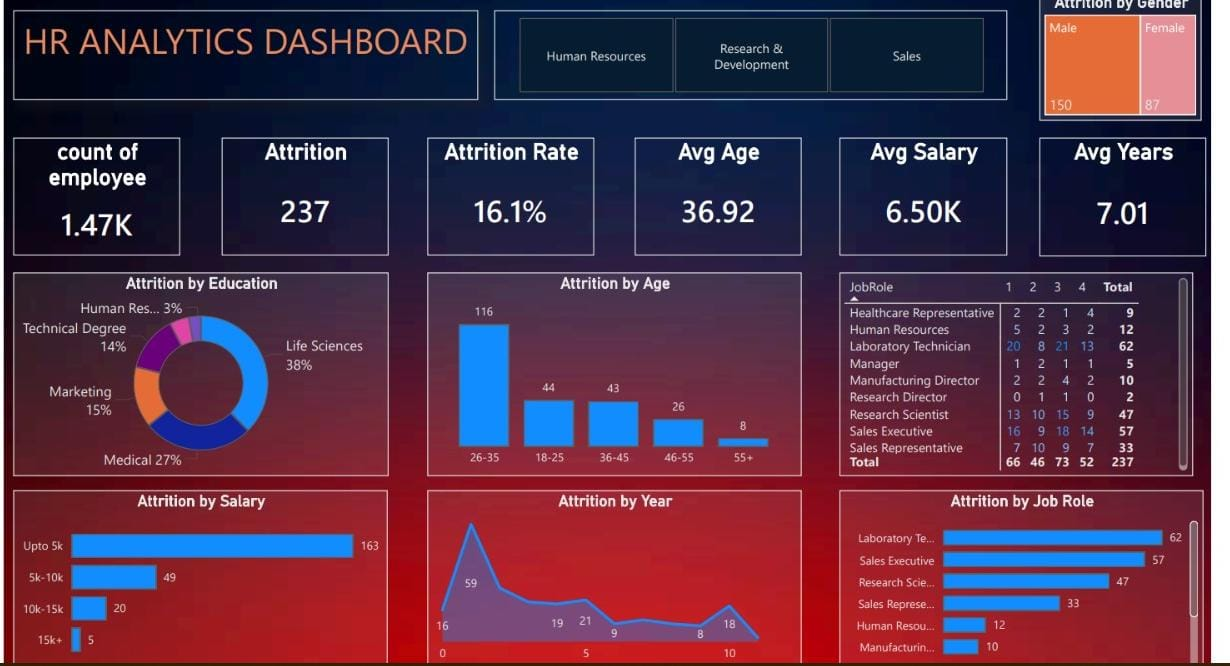

What the dashboard file says about the page in this screenshot:
{"tool":"powerbi","page":{"name":"Page 1","canvas":[1280,720],"ordinal":0},"visuals":[{"type":"cardVisual","title":"count of employee","fields":{"Data":["CountNonNull(HR_Analytics.EmpID)"]},"box":[9.8,154.5,177.3,125.2],"z":0},{"type":"cardVisual","title":"Attrition","fields":{"Data":["Sum(HR_Analytics.AttritionCount)"]},"box":[231,154.5,177.3,125.2],"z":1000},{"type":"cardVisual","title":"Avg Salary","fields":{"Data":["Avg(HR_Analytics.MonthlyIncome)"]},"box":[886.5,154.5,177.3,125.2],"z":2000},{"type":"cardVisual","title":"Avg Age","fields":{"Data":["Avg(HR_Analytics.Age)"]},"box":[668.5,154.5,177.3,125.2],"z":3000},{"type":"cardVisual","title":"Attrition Rate","fields":{"Data":["HR_Analytics.AttritionRate"]},"box":[448.9,154.5,177.3,125.2],"z":4000},{"type":"cardVisual","title":"Avg Years","fields":{"Data":["Avg(HR_Analytics.YearsAtCompany)"]},"box":[1097.9,154.5,177.3,126.9],"z":5000},{"type":"donutChart","title":"Attrition by Education","fields":{"Category":["HR_Analytics.EducationField"],"Y":["Sum(HR_Analytics.AttritionCount)"]},"box":[9.8,297.7,398.5,216.3],"z":6000},{"type":"columnChart","title":"Attrition by Age","fields":{"Category":["HR_Analytics.AgeGroup"],"Y":["Sum(HR_Analytics.AttritionCount)"]},"box":[448.9,297.7,396.9,216.3],"z":7000},{"type":"pivotTable","fields":{"Rows":["HR_Analytics.JobRole"],"Columns":["HR_Analytics.JobSatisfaction"],"Values":["Sum(HR_Analytics.AttritionCount)"]},"box":[886.5,297.7,374.1,216.3],"z":8000},{"type":"barChart","title":"Attrition by Salary","fields":{"Category":["HR_Analytics.SalarySlab"],"Y":["Sum(HR_Analytics.AttritionCount)"]},"box":[9.8,528.6,396.9,191.9],"z":8001},{"type":"stackedAreaChart","title":"Attrition by Year","fields":{"Category":["HR_Analytics.YearsAtCompany"],"Y":["Sum(HR_Analytics.AttritionCount)"]},"box":[448.9,528.6,396.9,191.9],"z":8002},{"type":"treemap","title":"Attrition by Gender","fields":{"Group":["HR_Analytics.Gender"],"Values":["Sum(HR_Analytics.AttritionCount)"]},"box":[1097.9,0,172.4,136.6],"z":8003},{"type":"barChart","title":"Attrition by Job Role","fields":{"Category":["HR_Analytics.JobRole"],"Y":["Sum(HR_Analytics.AttritionCount)"]},"box":[886.5,528.6,385.5,191.9],"z":8004},{"type":"slicer","fields":{"Values":["HR_Analytics.Department"]},"box":[520.5,19.5,543.3,96],"z":8005},{"type":"textbox","box":[9.8,19.5,492.8,96],"z":8006}]}

Visuals, with their boxes in screenshot pixels (x1, y1, x2, y2):
"count of employee" cardVisual: <bbox>6, 133, 174, 252</bbox>
"Attrition" cardVisual: <bbox>215, 133, 383, 252</bbox>
"Avg Salary" cardVisual: <bbox>836, 133, 1003, 252</bbox>
"Avg Age" cardVisual: <bbox>629, 133, 797, 252</bbox>
"Attrition Rate" cardVisual: <bbox>422, 133, 589, 252</bbox>
"Avg Years" cardVisual: <bbox>1036, 133, 1203, 253</bbox>
"Attrition by Education" donutChart: <bbox>6, 269, 383, 473</bbox>
"Attrition by Age" columnChart: <bbox>422, 269, 797, 473</bbox>
pivotTable - HR_Analytics.JobRole x HR_Analytics.JobSatisfaction: <bbox>836, 269, 1189, 473</bbox>
"Attrition by Salary" barChart: <bbox>6, 487, 382, 665</bbox>
"Attrition by Year" stackedAreaChart: <bbox>422, 487, 797, 665</bbox>
"Attrition by Gender" treemap: <bbox>1036, 0, 1199, 116</bbox>
"Attrition by Job Role" barChart: <bbox>836, 487, 1200, 665</bbox>
slicer - HR_Analytics.Department: <bbox>489, 6, 1003, 96</bbox>
textbox: <bbox>6, 6, 472, 96</bbox>
